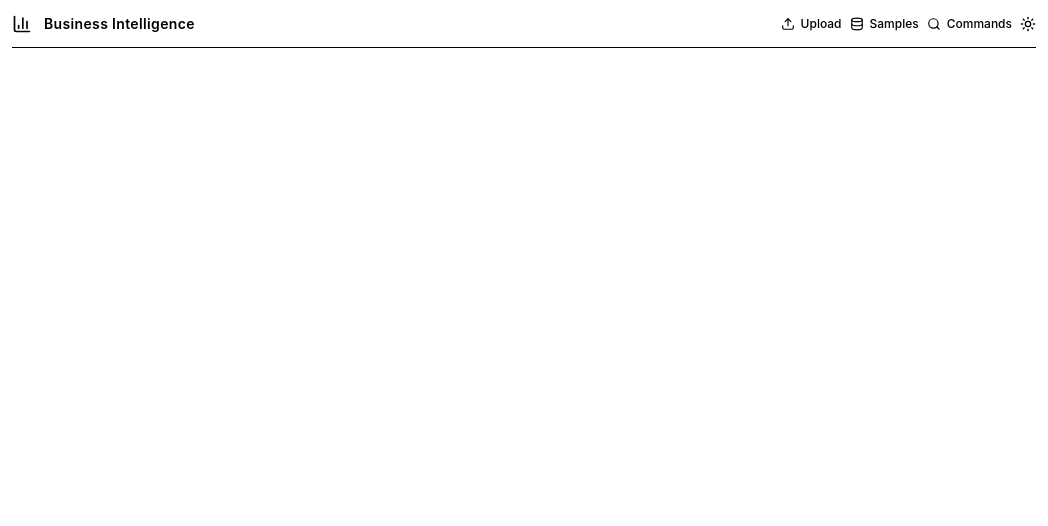
Test case: Toolbar › shows a generic message when the failure is not an Error instance
Click the button "Samples" at (884, 24), box [850,16,919,32]
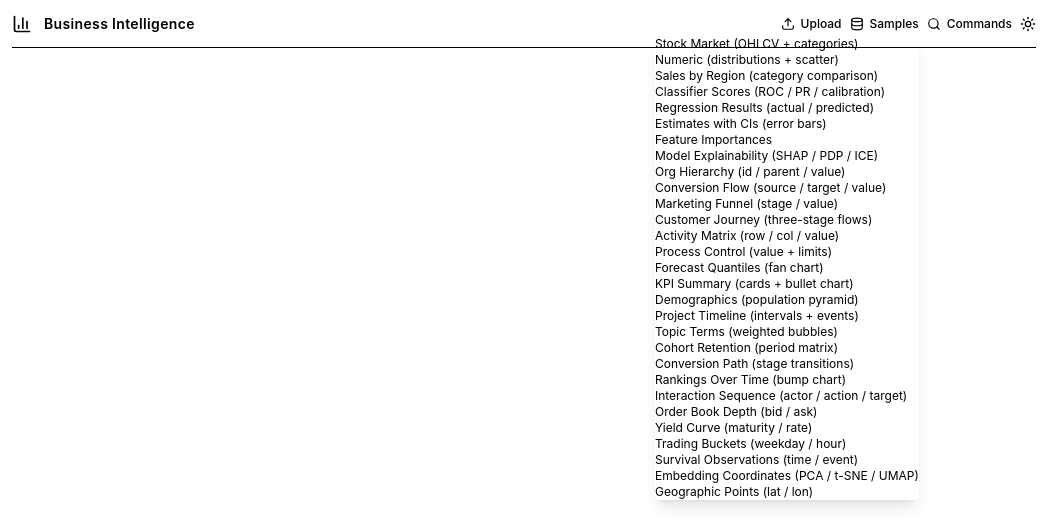
Click the menu item "Stock Market (OHLCV + categories)" at (757, 44), box [655,36,858,51]
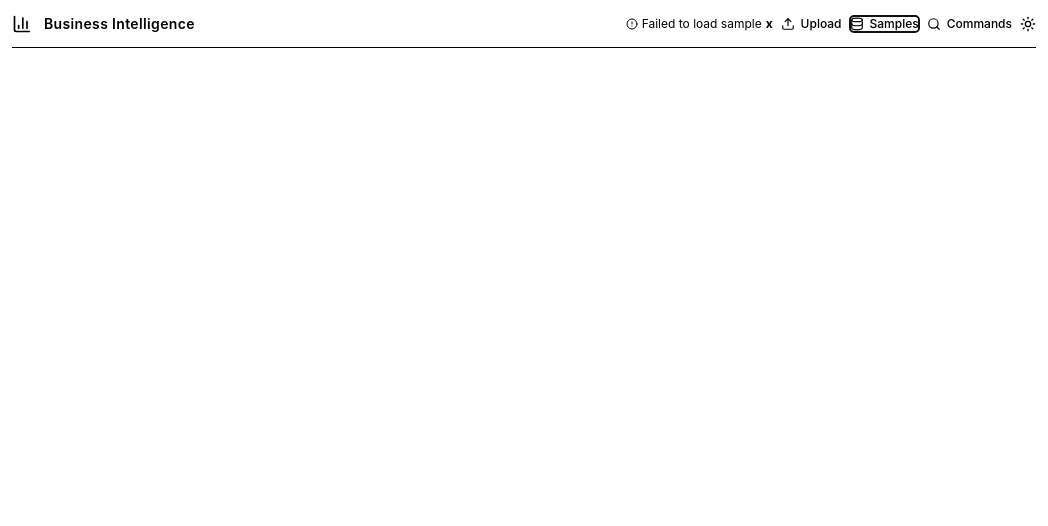
Expected: the text "Failed to load sample" is shown, [642,16,762,32]
